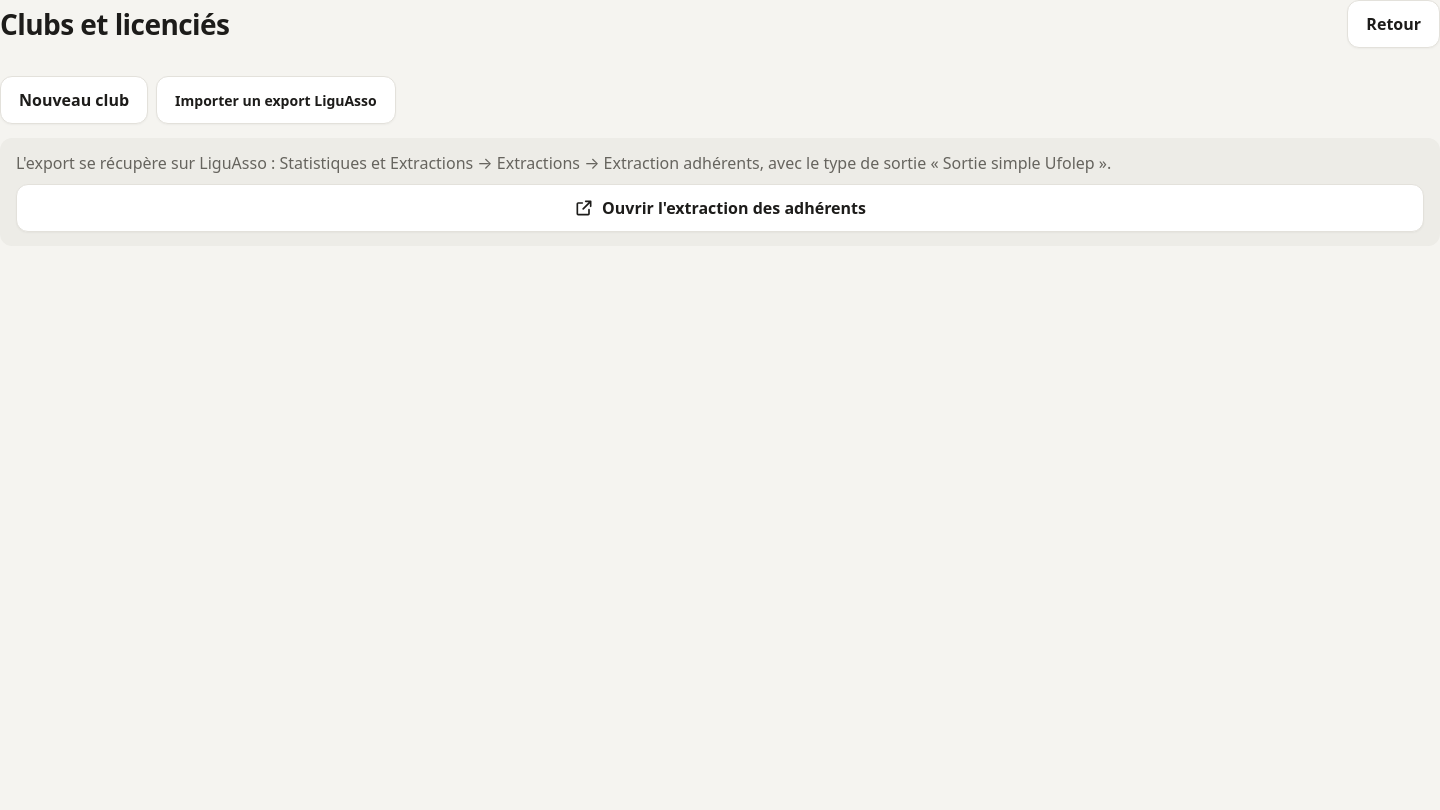
Scenario: EcranClubs › refuse un club sans nom
The width and height of the screenshot is (1440, 810).
Check: the heading "Clubs et licenciés" is shown, box [0,5,229,43]
Click the button "Nouveau club" at (74, 100), box [0,76,148,124]
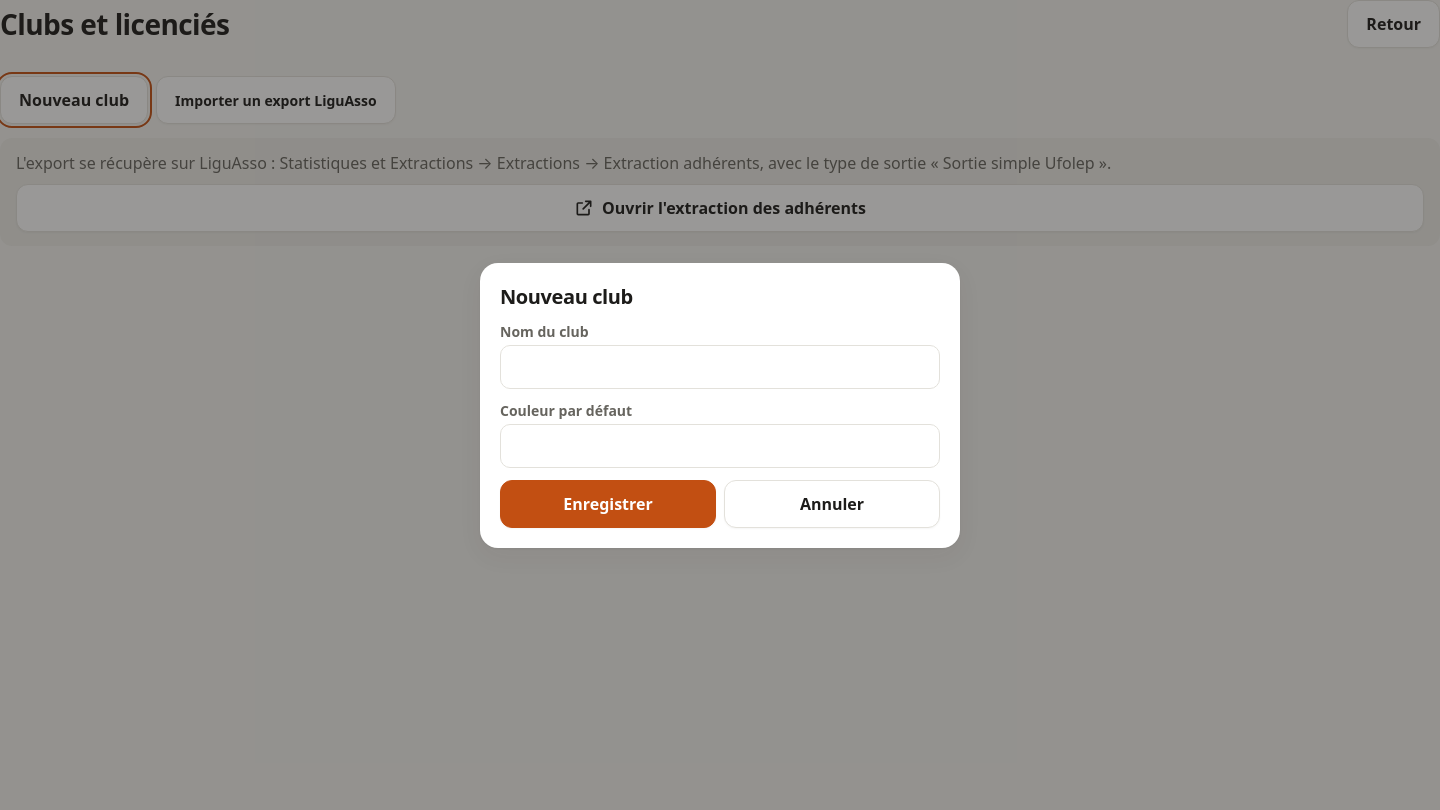
Click the button "Enregistrer" at (608, 504), box [500,480,716,528]
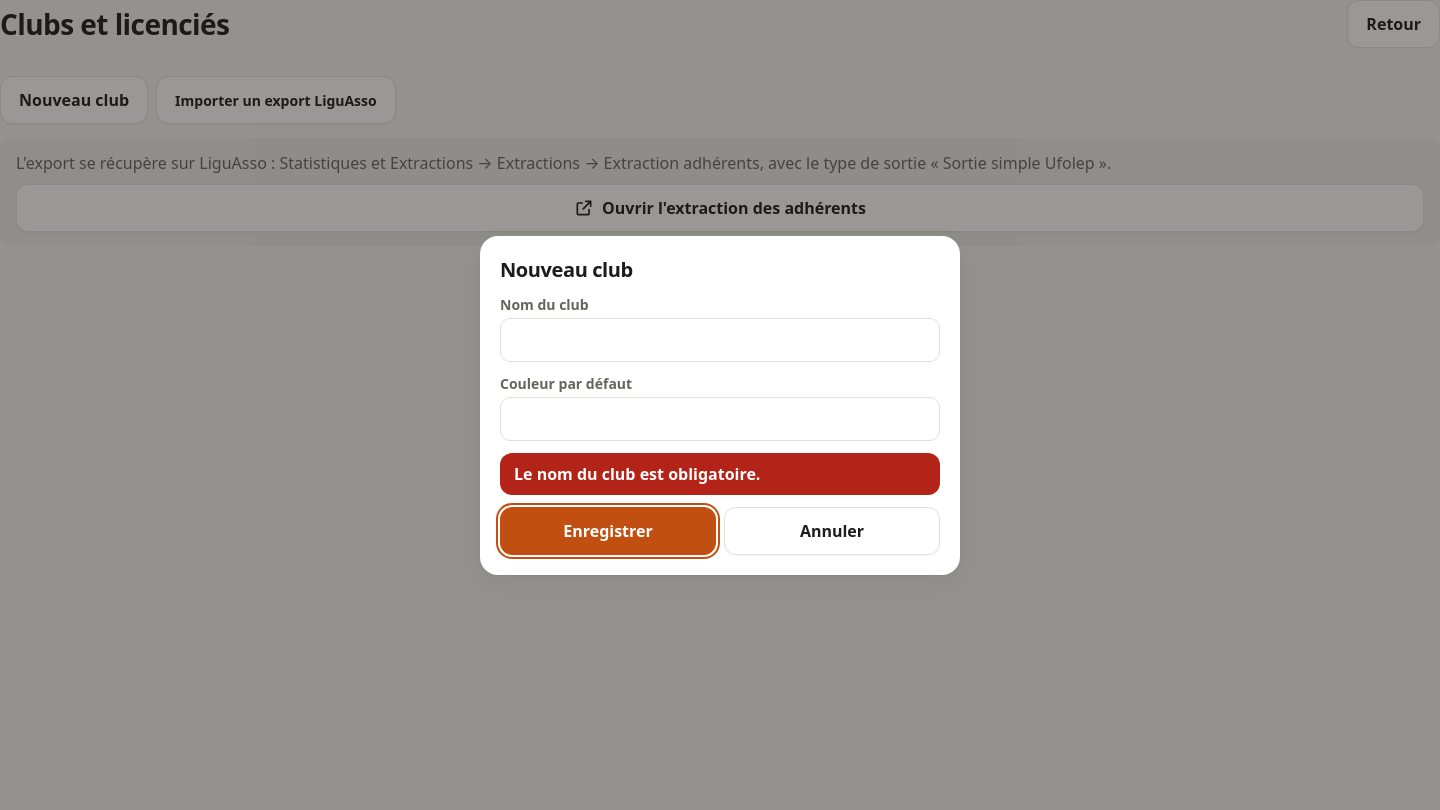
Check: the message reads "Le nom du club est obligatoire.", box [514,462,760,484]
